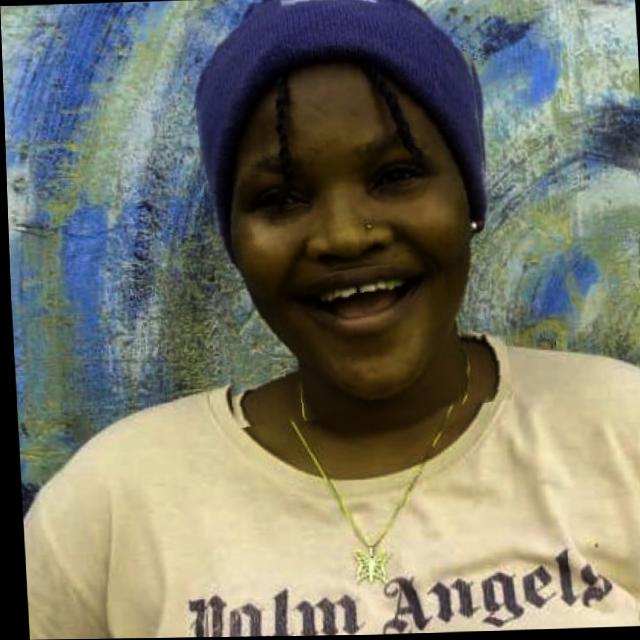happy: (189, 0, 502, 424)
